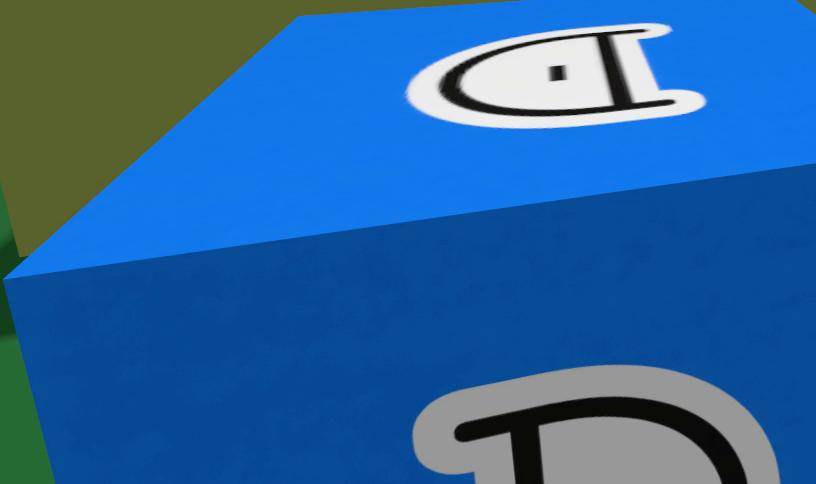KFS_REAL: (5, 0, 816, 483), (407, 23, 705, 127), (453, 397, 749, 483)
